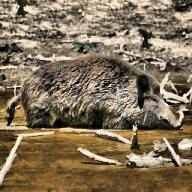boar: (4, 53, 188, 130)
